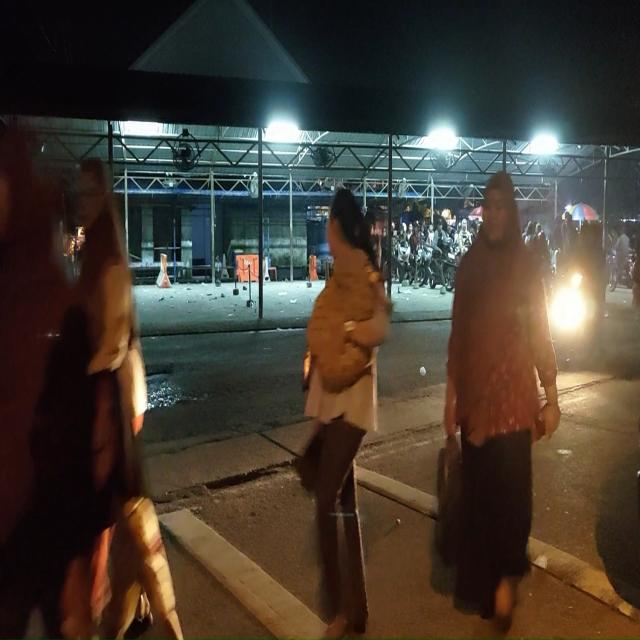Golongan II: (548, 272, 598, 361), (429, 240, 459, 292), (607, 249, 636, 292)
